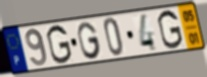0: (102, 16, 127, 58)
4: (137, 13, 159, 53)
9: (24, 27, 49, 67)
G: (45, 23, 74, 65), (156, 8, 184, 50), (76, 21, 103, 61)
